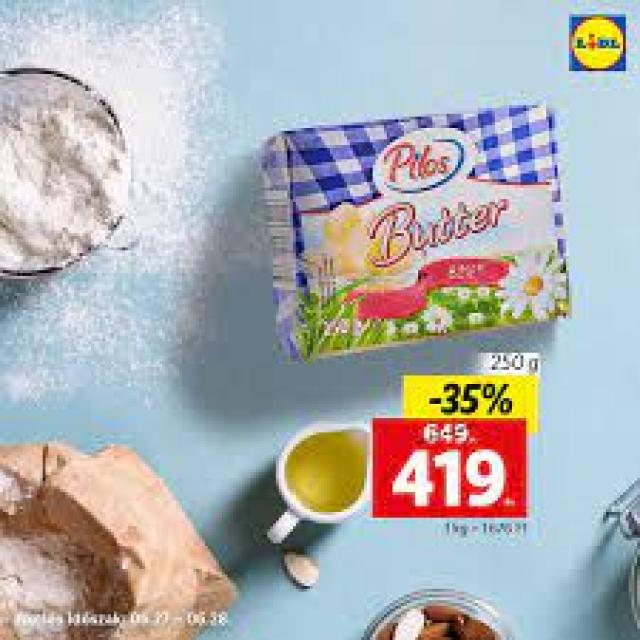butter: (263, 103, 571, 360)
